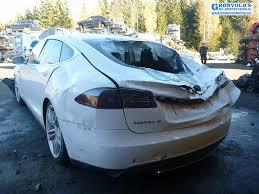Rear-windscreen-Damage: (104, 36, 185, 72)
boot-dent: (148, 76, 227, 120)
